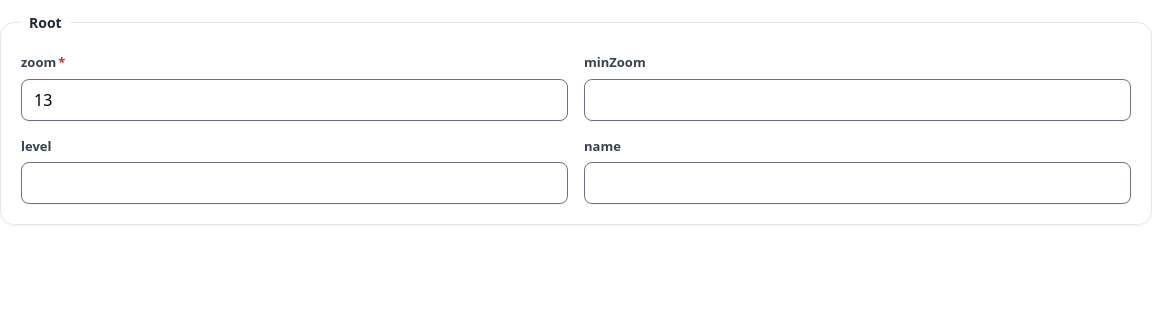
Test case: JsonSchemaFormComponent numeric fields › makes the form invalid when a required numeric field is emptied
Clear the field labelled "zoom*" at (294, 100), box [21,78,568,120]
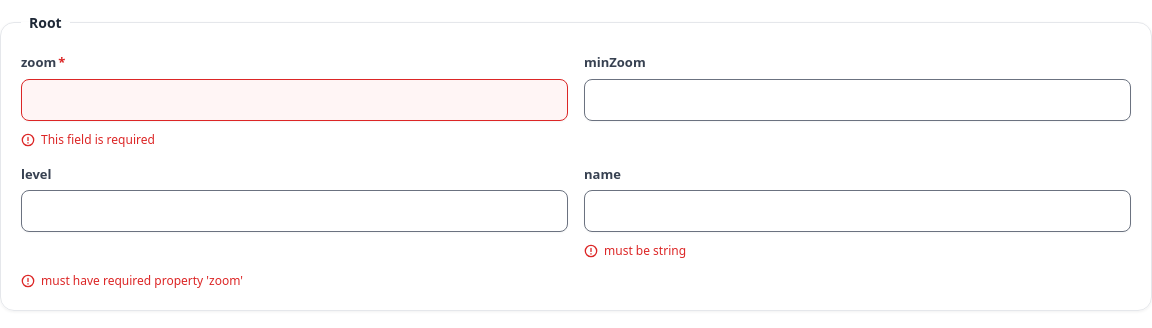
Now the text "required" is shown, box [41,130,155,148]
